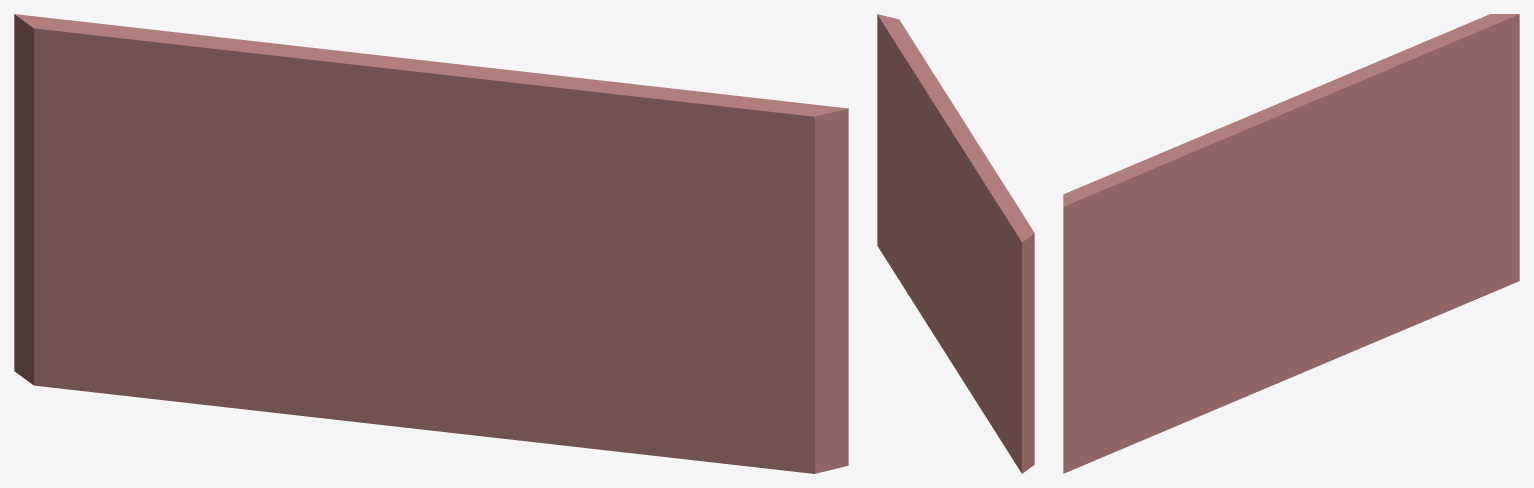
The model's file is wall_6x6_diagonal.fbx.
The picture shows the model from 3 angles, left to right: view 1: azimuth 30°, elevation 25°; view 2: azimuth 150°, elevation 25°; view 3: azimuth 270°, elevation 25°; orthographic projection. The views are drawn at different scales.
Visible parts, largest first — view 1: Cube; view 2: Cube; view 3: Cube.
Part boxes in pixels (box(x1,y1,x2,y2)): Cube: box(14, 14, 848, 473); Cube: box(877, 14, 1034, 473); Cube: box(1063, 14, 1519, 473).
Bounding box in the file's own units: 620 × 400 × 620.
